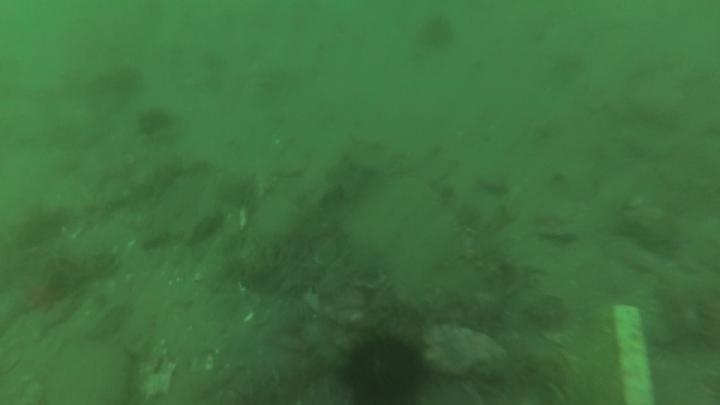echinus: (337, 325, 431, 405), (415, 16, 459, 51), (137, 110, 176, 140)
holothurian: (553, 301, 620, 405)
